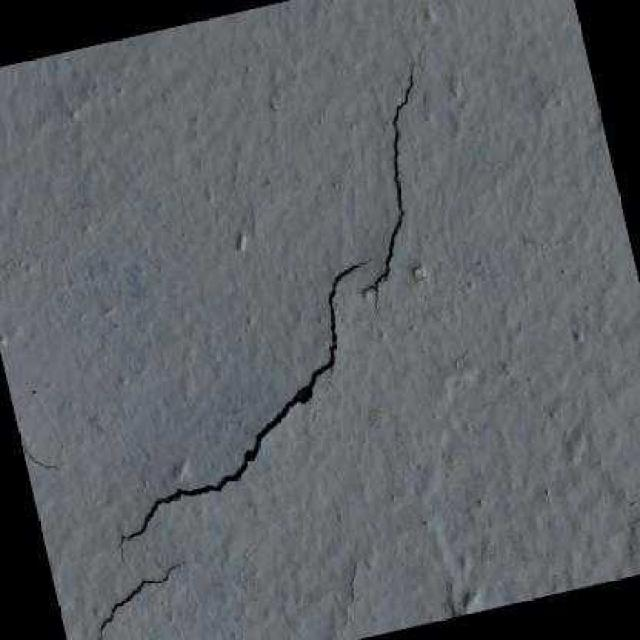D00: (116, 258, 367, 571), (362, 65, 414, 310), (93, 561, 176, 640)
